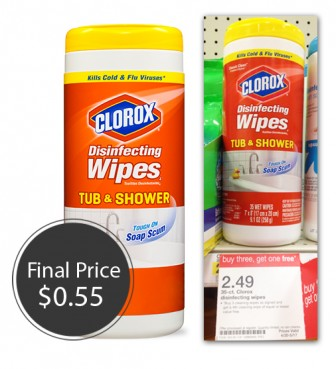Wipes: (61, 21, 188, 340), (220, 15, 310, 251)
